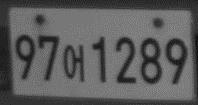1: (92, 36, 108, 83)
2: (115, 37, 138, 85)
7: (38, 34, 58, 82)
8: (139, 36, 163, 84)
9: (165, 36, 188, 86), (14, 34, 36, 80)
어: (63, 44, 87, 83)
